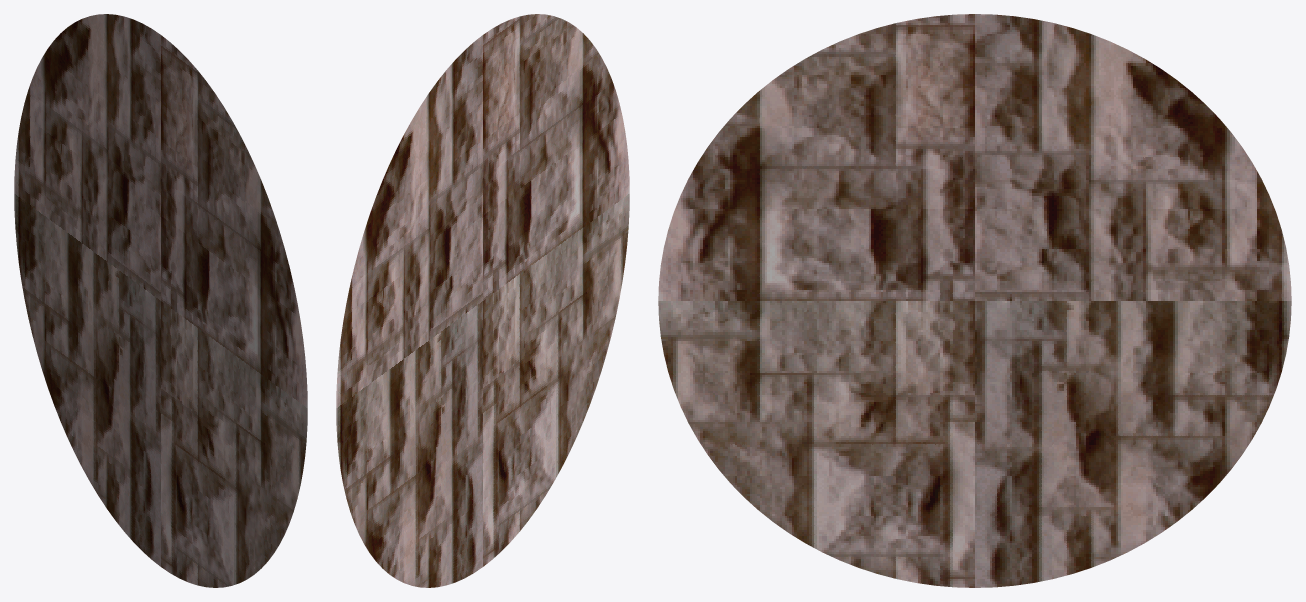
The picture shows the model from 3 angles, left to right: view 1: azimuth 30°, elevation 25°; view 2: azimuth 150°, elevation 25°; view 3: azimuth 270°, elevation 25°; orthographic projection. The views are drawn at different scales.
Parts seen in each view (by area): view 1: Renderer Node; view 2: Renderer Node; view 3: Renderer Node.
Boxes of the visible parts, box(x1,y1,x2,y2) form: Renderer Node: box(14, 14, 307, 587); Renderer Node: box(336, 14, 629, 587); Renderer Node: box(658, 14, 1291, 587).
Size of the model in its own units: 4e-16 by 1 by 1.
Materials: 1 (1 with a texture image).
